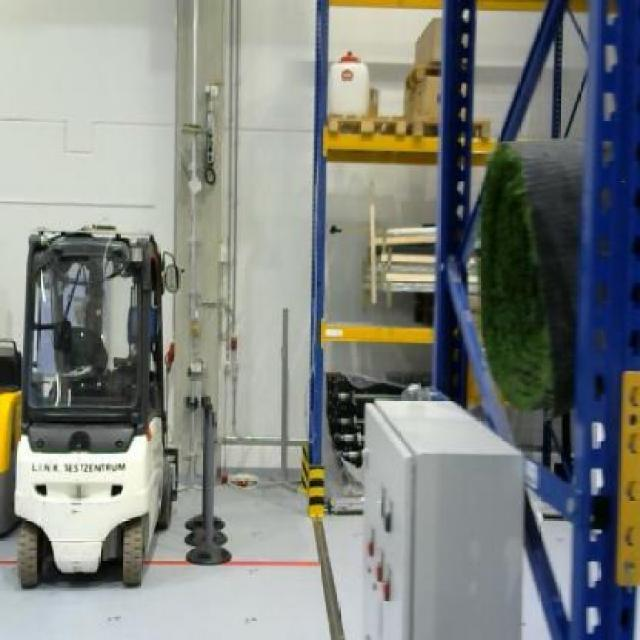box: (403, 74, 440, 122), (412, 15, 441, 71)
